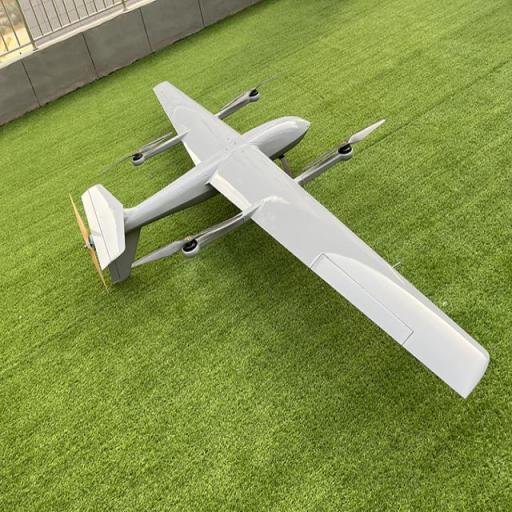uav: (65, 64, 495, 406)
